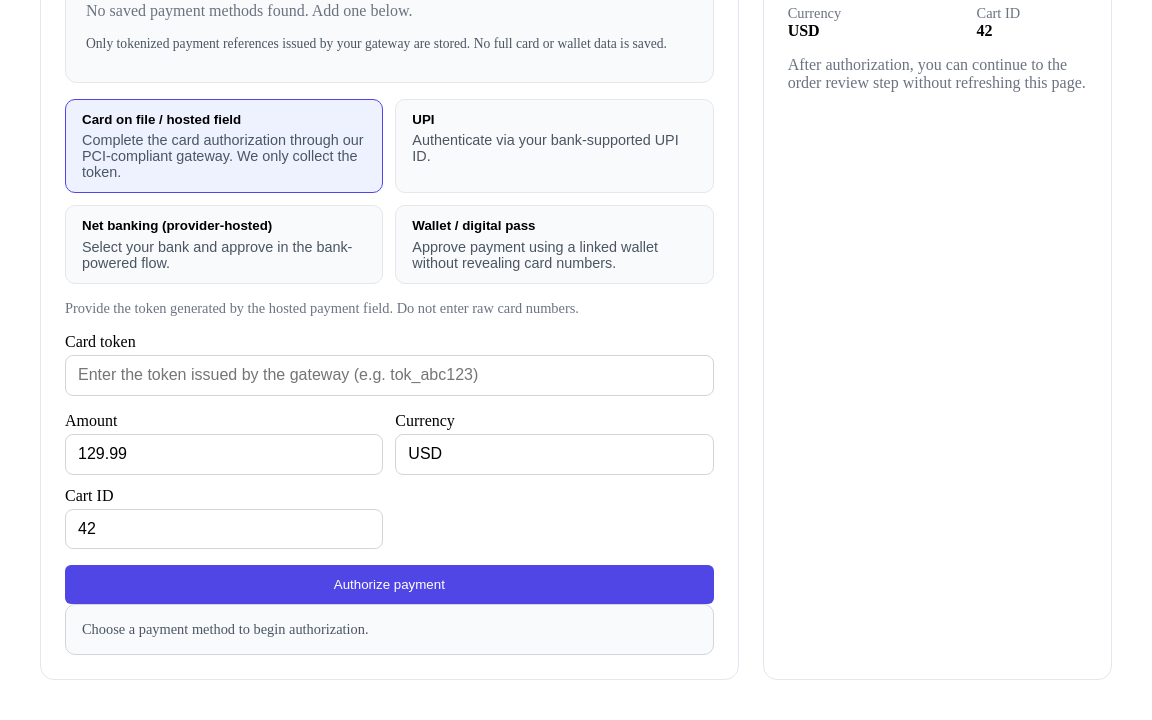
it: CheckoutPage payment authorization flow › shows a success message when the backend authorizes the payment
(page scrolled)
In the field labelled "Card token": (389, 375) 65,355 -> 714,396, type "tok_test"
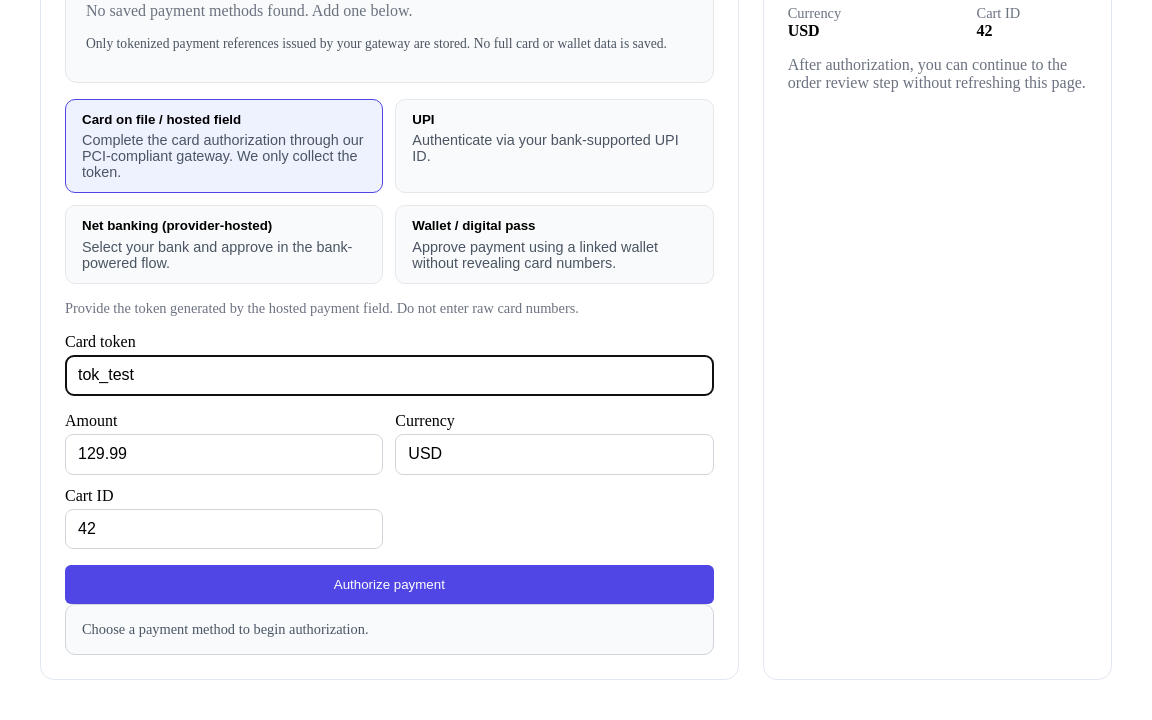
Click the button "Authorize payment": (389, 585) 65,565 -> 714,604
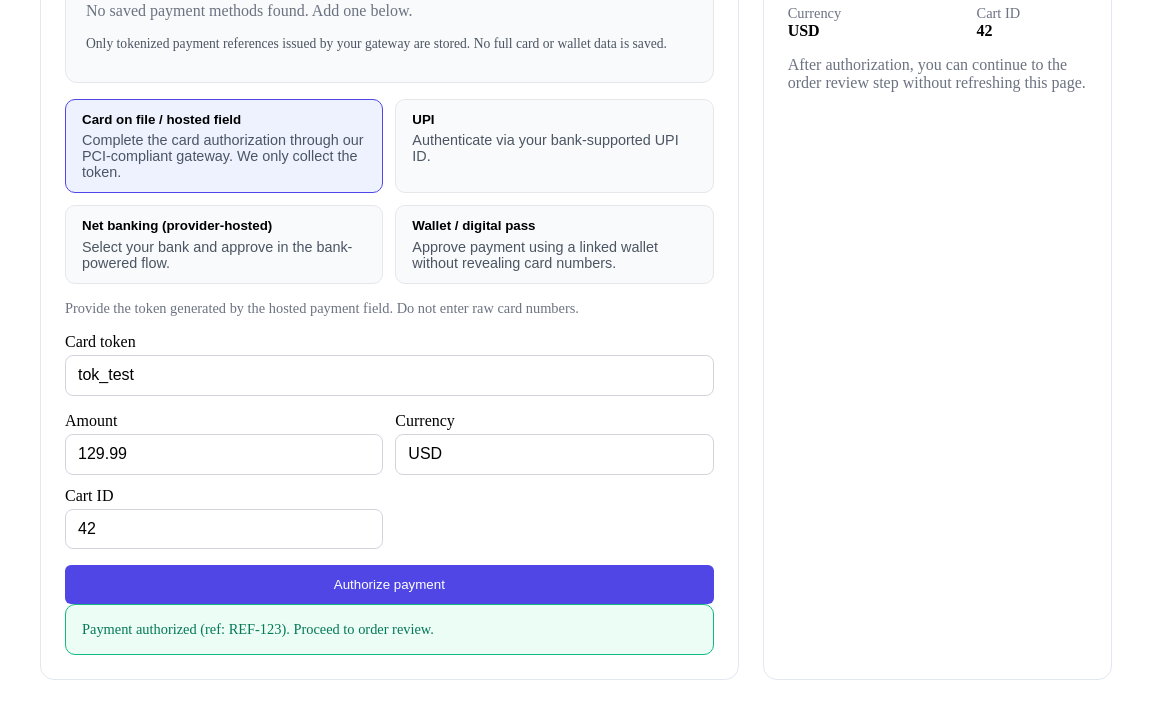
Check: the text "Payment authorized (ref: REF-123). Proceed to order review." is shown, box 65,604 -> 714,655
